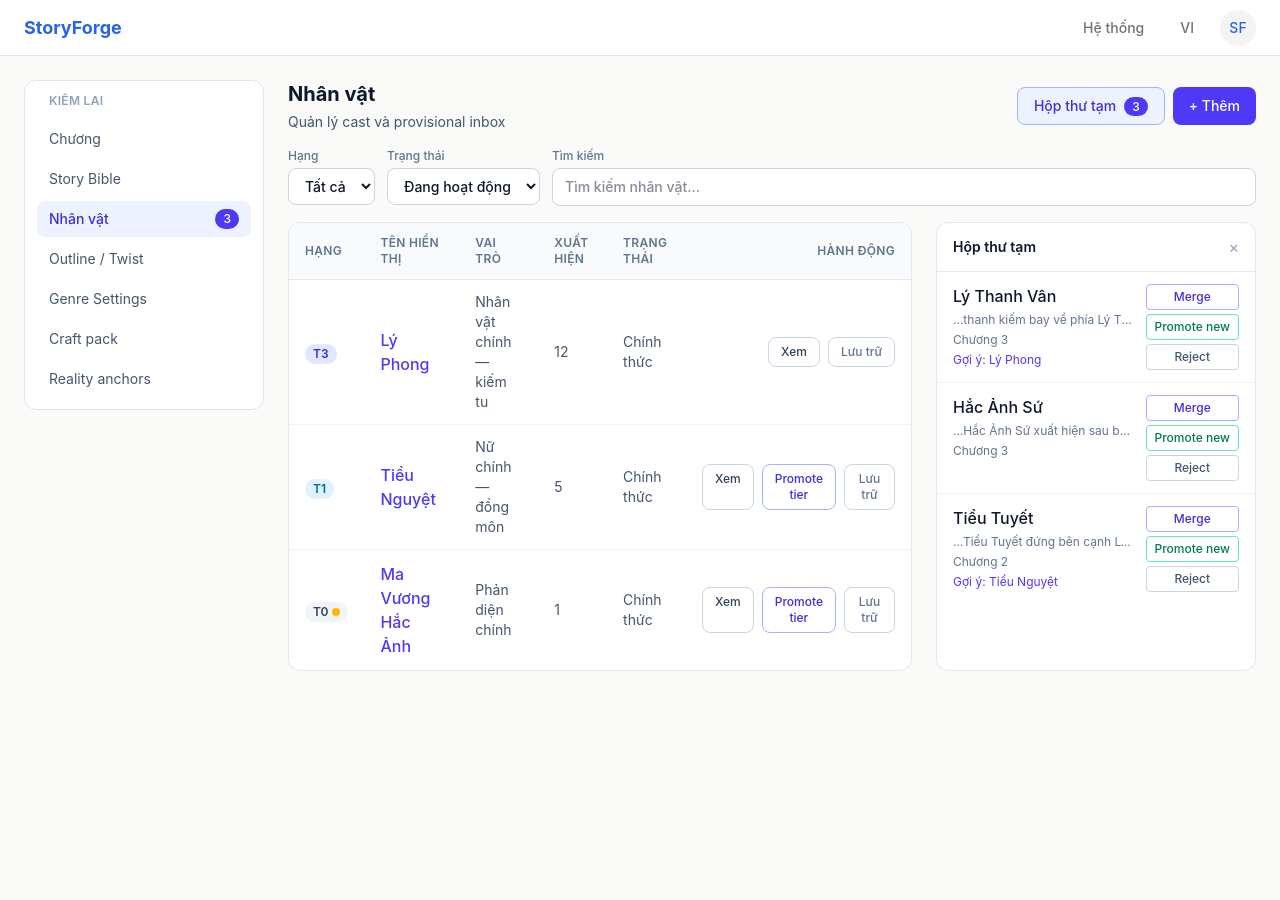
Test: CharactersPage › promotes new provisional from inbox
expect the text "Hắc Ảnh Sứ" is shown: met, box [953,397,1043,417]
Click the 1st button "Promote new".
click(1192, 327)  # box [1146,314,1239,340]
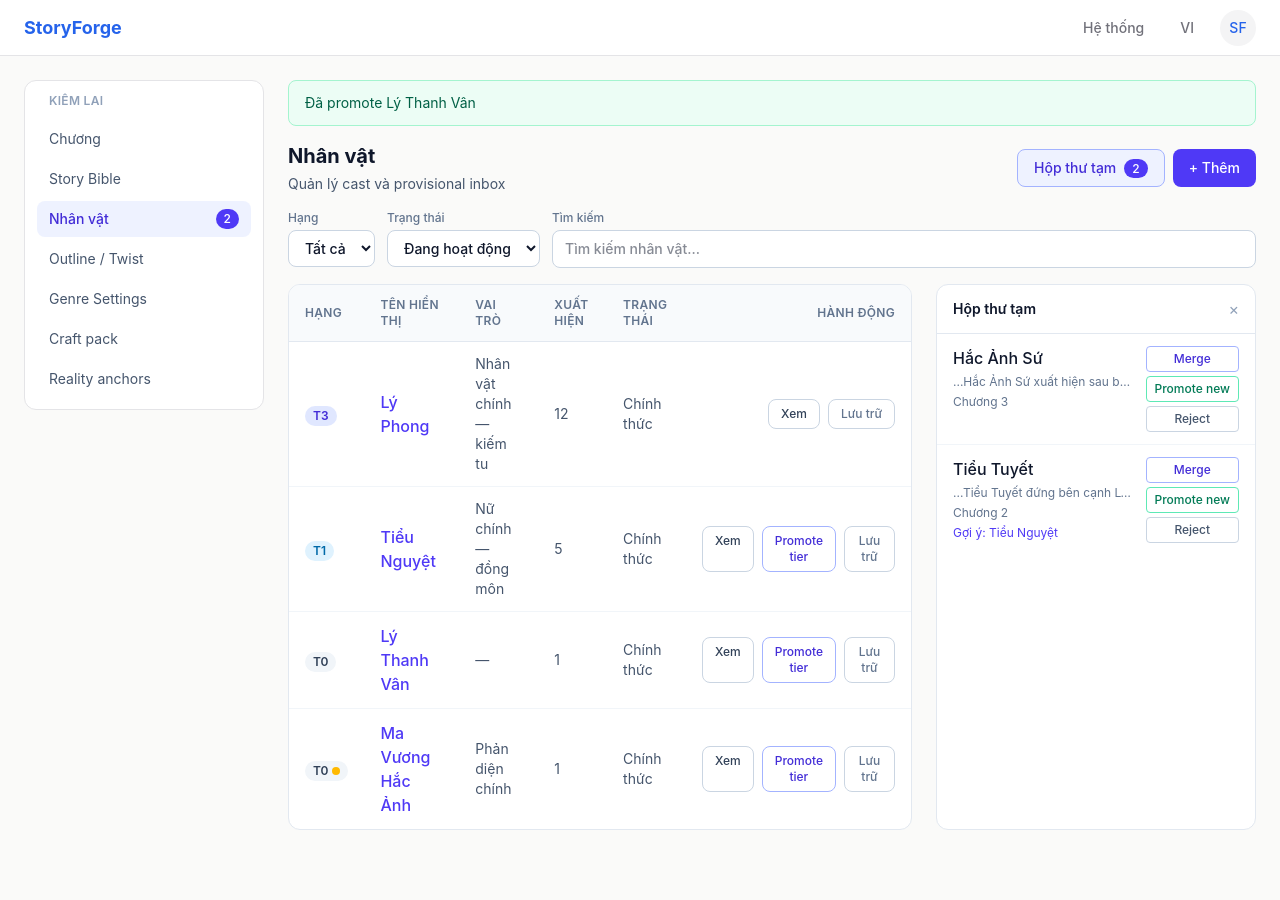
expect the text "Đã promote Lý Thanh Vân" is shown: met, box [288,80,1256,126]
